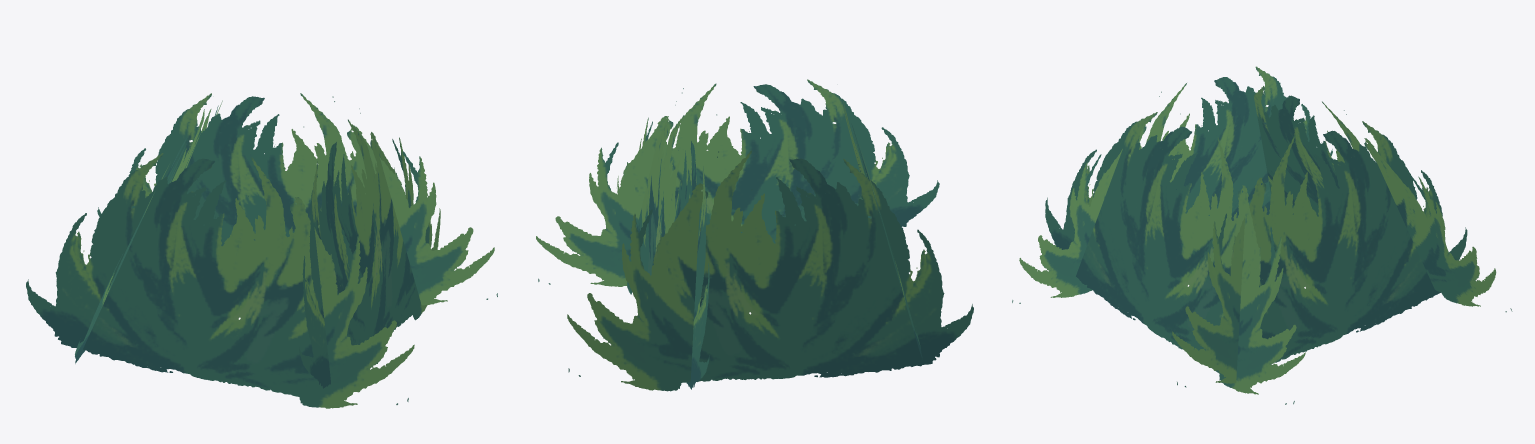
File: obj_plantShrub.fbx
3 renders of one model, left to right at view 1: azimuth 30°, elevation 25°; view 2: azimuth 150°, elevation 25°; view 3: azimuth 270°, elevation 25°, orthographic. The views are drawn at different scales.
Visible parts, largest first — view 1: obj_plantShrub; view 2: obj_plantShrub; view 3: obj_plantShrub.
Boxes of the visible parts, x1,y1,x2,y2 form: obj_plantShrub: (26, 93, 497, 408); obj_plantShrub: (536, 79, 973, 391); obj_plantShrub: (1012, 66, 1512, 404).
Size of the model in its own units: 59.13 by 34.32 by 63.92.
Materials: 1 (1 with a texture image).
